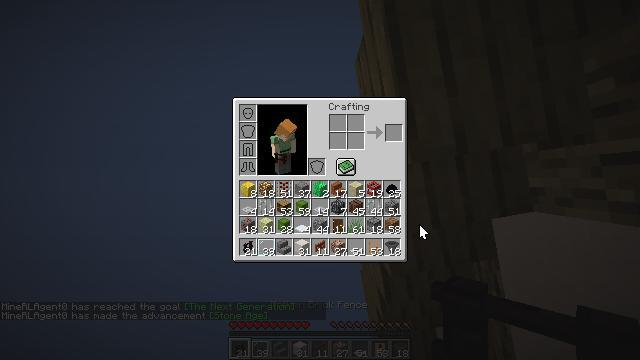cursor: (419, 224, 429, 240)
